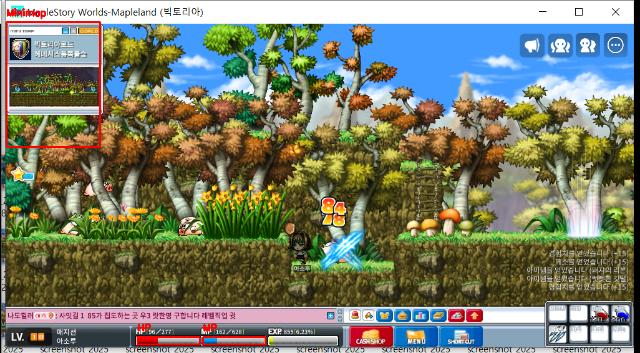me: (290, 229, 314, 273)
pig: (58, 212, 90, 238), (83, 176, 113, 198), (178, 216, 204, 235)
